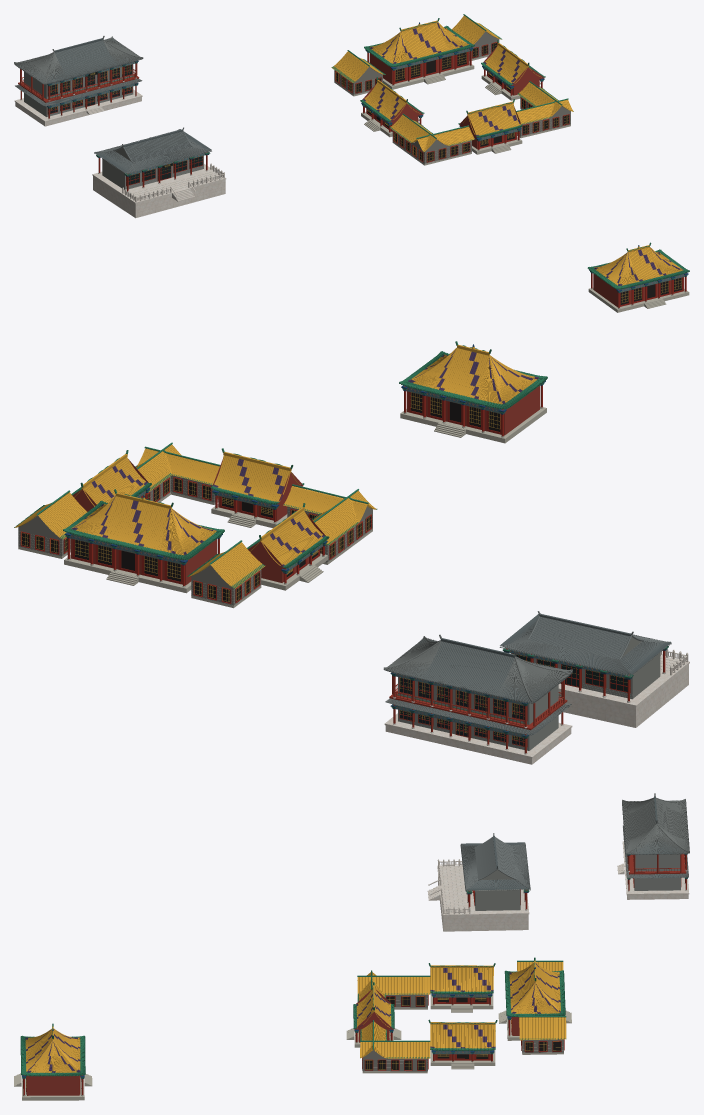
Rendered from temples.glb.
3 renders of one model, top to bottom at view 1: azimuth 30°, elevation 25°; view 2: azimuth 150°, elevation 25°; view 3: azimuth 270°, elevation 25°, orthographic. The views are drawn at different scales.
Visible parts, largest first — view 1: 悦心殿 stone, 庆霄楼 tile, 悦心殿 tile, 庆霄楼 roof, 普安殿 yellow, 悦心殿 grey, 法轮殿 yellow, 庆霄楼 red, 庆霄楼 stone, 西侧转角附属房 yellow, 东侧转角附属房 yellow, 庆霄楼 brick (+22 smaller); view 2: 庆霄楼 tile, 悦心殿 tile, 庆霄楼 roof, 普安殿 yellow, 悦心殿 grey, 悦心殿 stone, 法轮殿 yellow, 庆霄楼 red, 庆霄楼 stone, 西侧转角附属房 yellow, 正觉殿 yellow, 庆霄楼 brick (+27 smaller); view 3: 庆霄楼 tile, 悦心殿 stone, 悦心殿 tile, 普安殿 yellow, 法轮殿 yellow, 圣果殿 yellow, 宗镜殿 yellow, 东侧转角附属房 yellow, 庆霄楼 brick, 西侧转角附属房 yellow, 悦心殿 brick, 东侧北院附属房 yellow (+12 smaller).
Part boxes in pixels (x1,y1,x2,y2): 悦心殿 stone: [92, 163, 226, 218]; 庆霄楼 tile: [14, 36, 143, 105]; 悦心殿 tile: [94, 127, 211, 174]; 庆霄楼 roof: [18, 38, 141, 106]; 普安殿 yellow: [370, 20, 468, 63]; 悦心殿 grey: [94, 129, 211, 173]; 法轮殿 yellow: [594, 245, 683, 285]; 庆霄楼 red: [18, 63, 139, 118]; 庆霄楼 stone: [14, 77, 142, 126]; 西侧转角附属房 yellow: [390, 114, 474, 151]; 东侧转角附属房 yellow: [516, 82, 573, 124]; 庆霄楼 brick: [24, 64, 133, 116]; 庆霄楼 tile: [383, 634, 572, 735]; 悦心殿 tile: [499, 611, 671, 676]; 庆霄楼 roof: [386, 638, 571, 735]; 普安殿 yellow: [71, 493, 216, 555]; 悦心殿 grey: [500, 614, 671, 674]; 悦心殿 stone: [558, 649, 689, 727]; 法轮殿 yellow: [410, 345, 537, 404]; 庆霄楼 red: [389, 672, 567, 753]; 庆霄楼 stone: [384, 697, 572, 764]; 西侧转角附属房 yellow: [283, 486, 376, 545]; 正觉殿 yellow: [214, 452, 300, 501]; 庆霄楼 brick: [398, 677, 558, 750]; 庆霄楼 tile: [622, 793, 689, 878]; 悦心殿 stone: [427, 859, 529, 931]; 悦心殿 tile: [460, 833, 530, 891]; 普安殿 yellow: [509, 960, 560, 1013]; 法轮殿 yellow: [25, 1026, 80, 1072]; 圣果殿 yellow: [430, 1022, 495, 1048]; 宗镜殿 yellow: [430, 965, 493, 991]; 东侧转角附属房 yellow: [360, 1021, 430, 1058]; 庆霄楼 brick: [634, 854, 680, 890]; 西侧转角附属房 yellow: [357, 972, 430, 1000]; 悦心殿 brick: [475, 869, 520, 910]; 东侧北院附属房 yellow: [519, 1017, 566, 1040].
Bounding box in the file's own units: 0.9039 × 0.2391 × 1.16.
35 materials, 7 textured.
